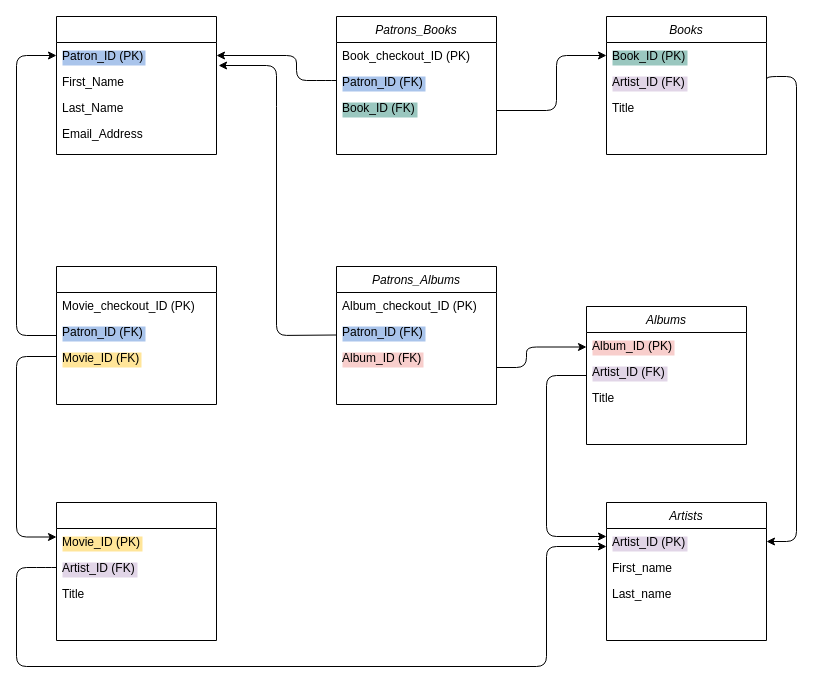
Image size: 813x683. Some labels were removed from this diagram. The box of each missing label's shape, as (x1, y1, x2, y2) in pixels:
Movies: (56, 502, 216, 640)
Patrons: (56, 16, 216, 154)
Patrons_Movies: (56, 266, 216, 404)
